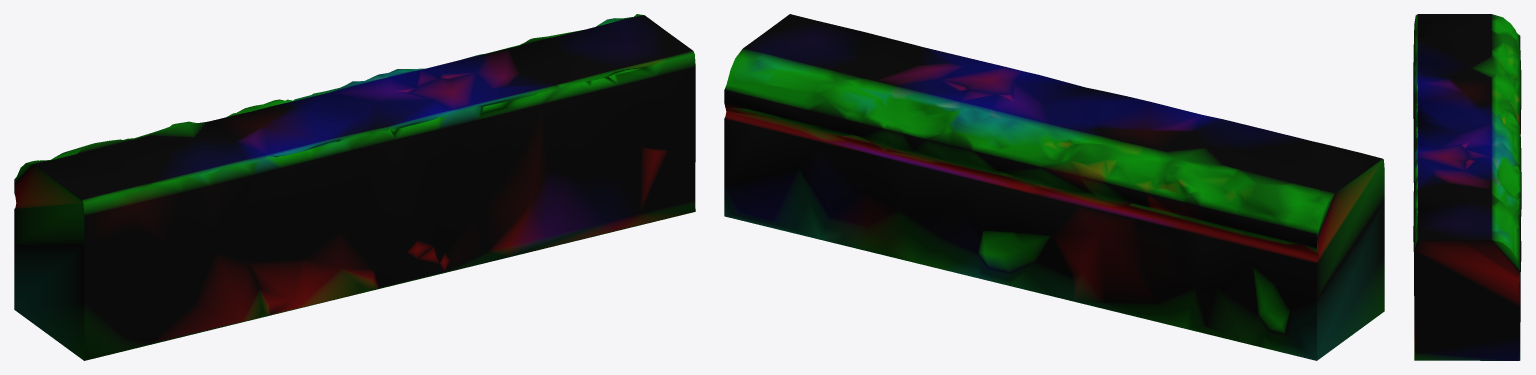
File: SM_BoardKerb_L1.glb
3 views of the same model, side by side, from view 1: azimuth 30°, elevation 25°; view 2: azimuth 150°, elevation 25°; view 3: azimuth 270°, elevation 25° (orthographic). The views are drawn at different scales.
Visible parts, largest first — view 1: SM_BoardKerb; view 2: SM_BoardKerb; view 3: SM_BoardKerb.
Boxes of the visible parts, left/top/right/bottom form: SM_BoardKerb: left=14, top=14, right=695, bottom=360; SM_BoardKerb: left=724, top=14, right=1384, bottom=360; SM_BoardKerb: left=1413, top=14, right=1521, bottom=360.
Bounding box in the file's own units: 2 × 0.5023 × 0.406.
